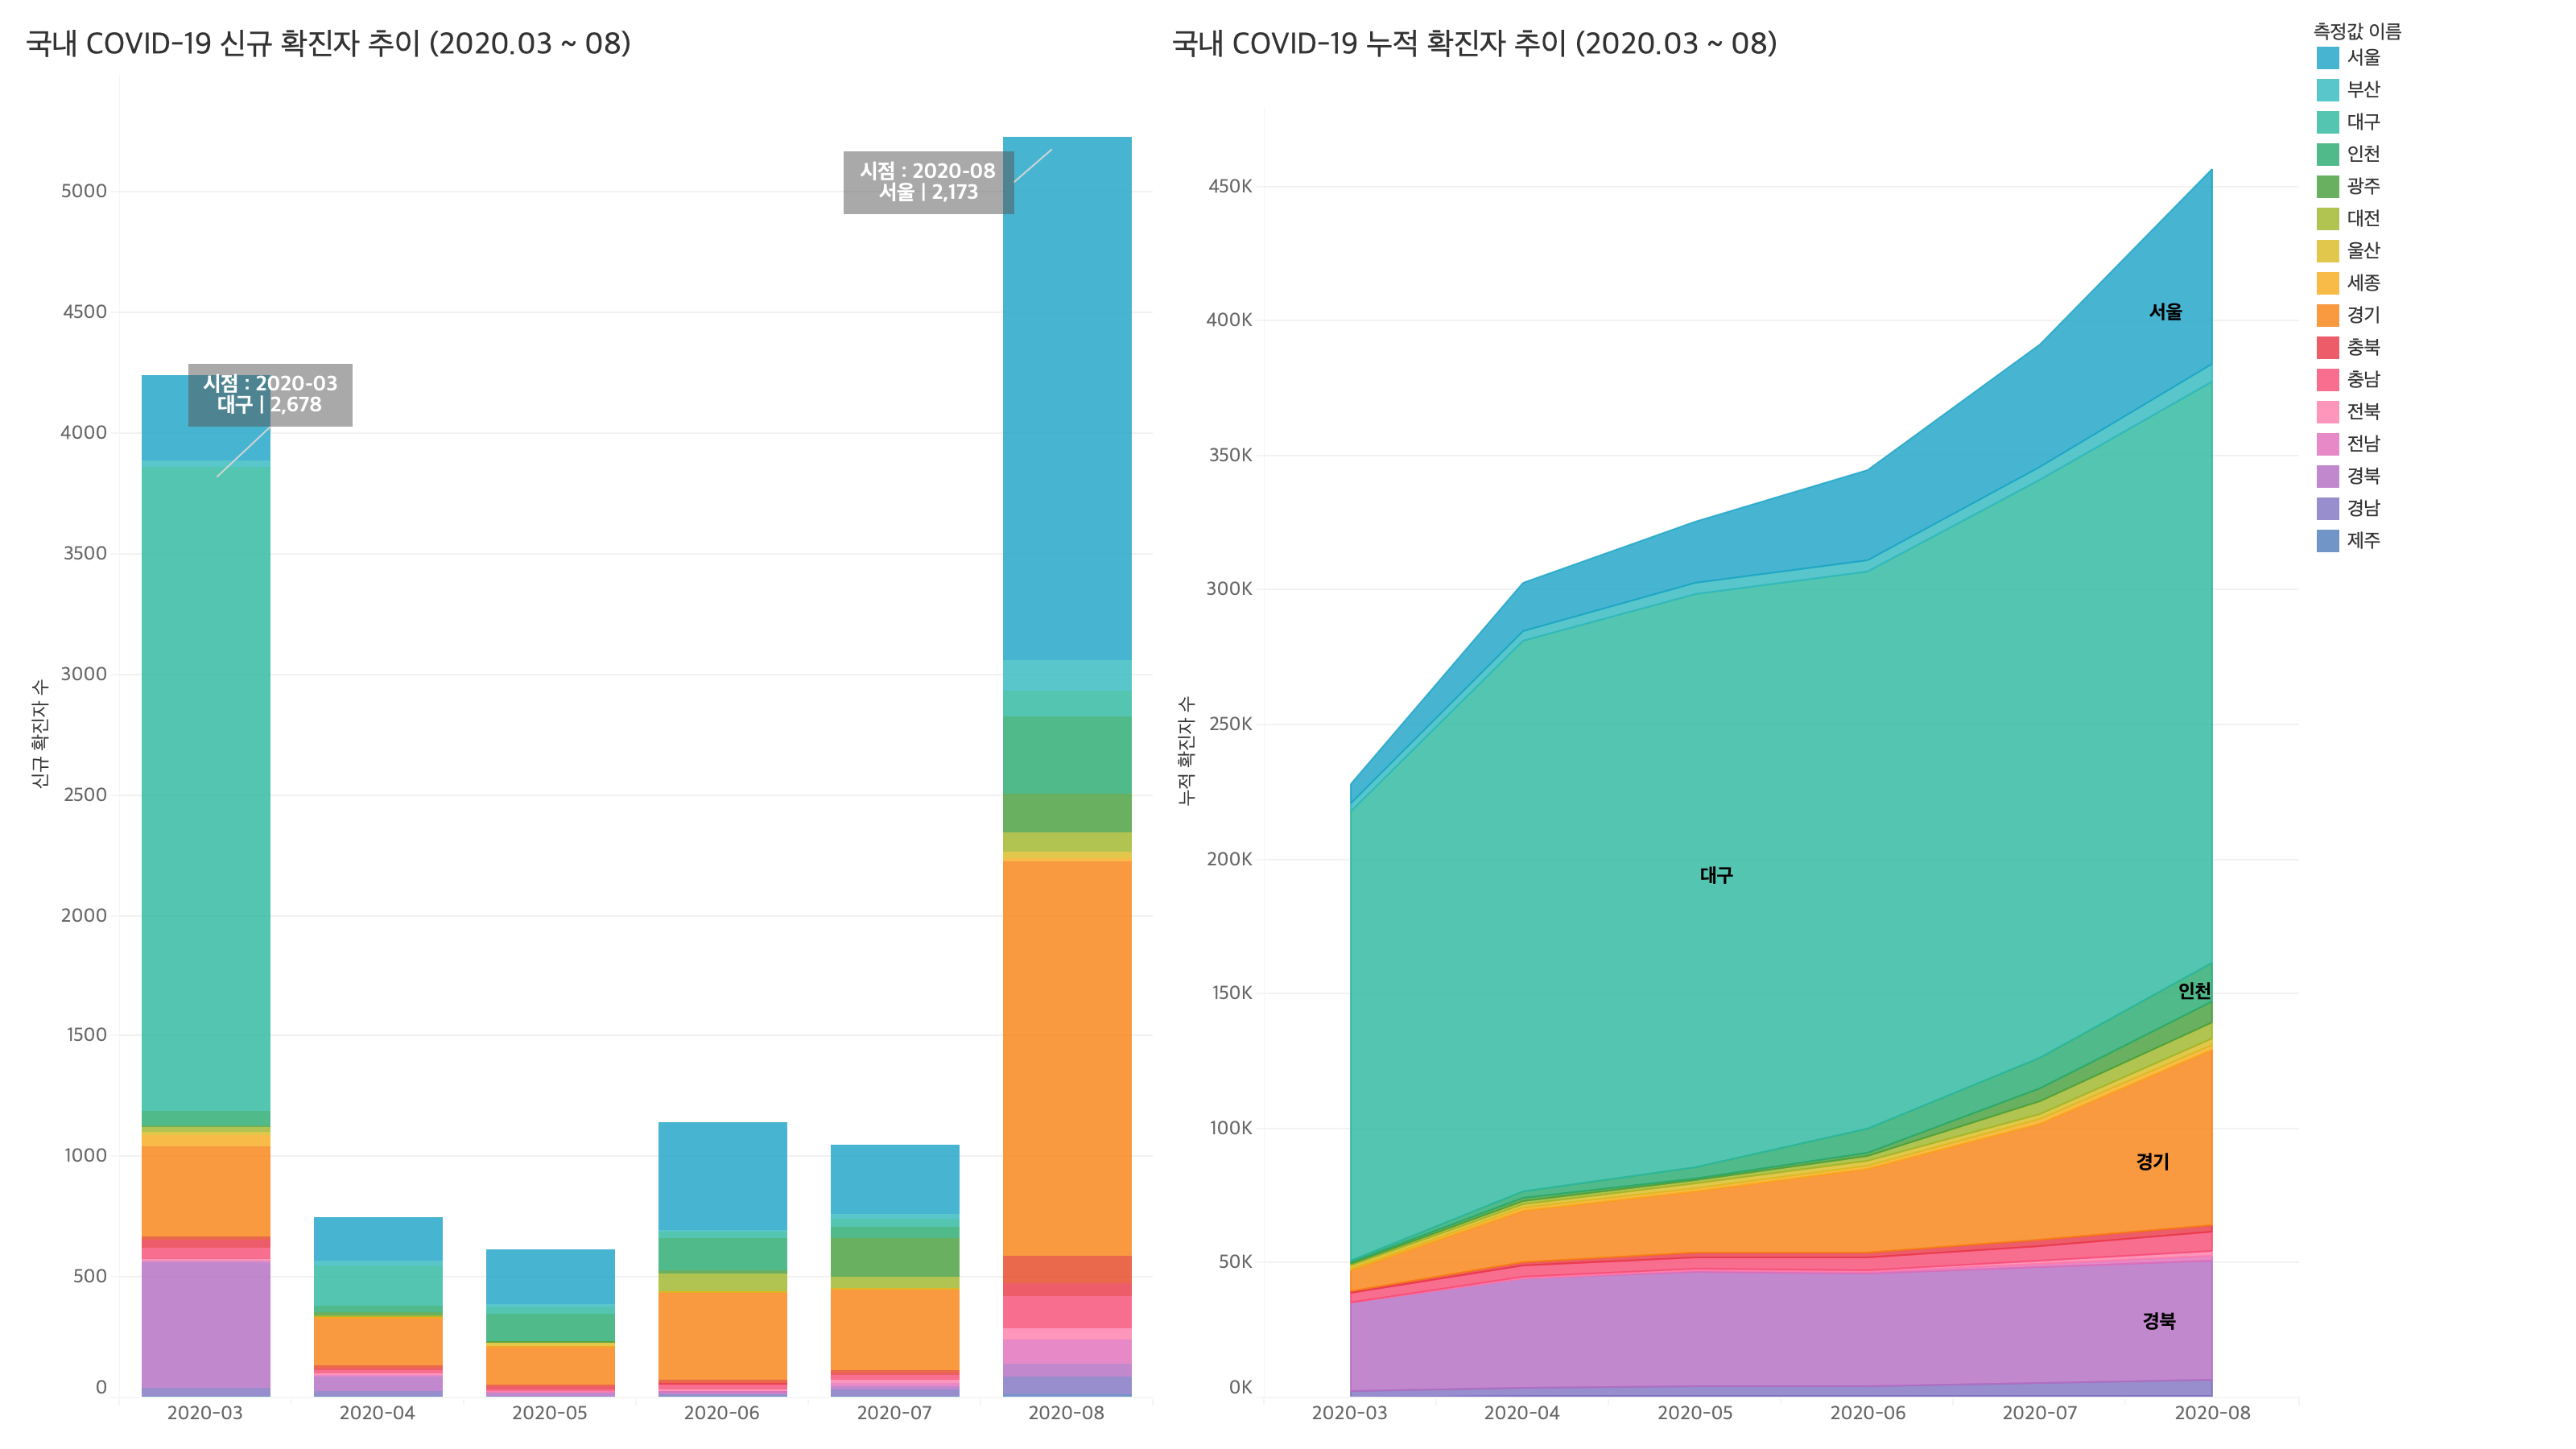

The dashboard page shown, as its layout file describes it:
{"tool":"tableau","page":{"name":"covid","canvas":[1600,900],"ordinal":0},"visuals":[{"type":"worksheet","box":[0,0,1600,900]},{"type":"worksheet","param":"horz","box":[8,8,1584,884]},{"type":"worksheet","box":[8,8,1424,884]},{"type":"worksheet","title":"covid신규","mark":"Bar","box":[8,8,712,884]},{"type":"worksheet","title":"covid누적","mark":"Area","box":[720,8,712,884]},{"type":"worksheet","param":"vert","box":[1432,8,160,884]},{"type":"worksheet","title":"covid누적","mark":"Area","param":"[federated.0ef098814n7bxw12qywmp0sd1su6].[:Measure Names]","box":[1432,8,160,342]}]}

Visuals, with their boxes in screenshot pixels (x1, y1, x2, y2), scaled from the page's 1600x900 canvas onto the 2576x1449 screenshot:
worksheet: bbox(0, 0, 2575, 1448)
worksheet: bbox(13, 13, 2563, 1436)
worksheet: bbox(13, 13, 2306, 1436)
"covid신규" worksheet (Bar marks): bbox(13, 13, 1159, 1436)
"covid누적" worksheet (Area marks): bbox(1159, 13, 2306, 1436)
worksheet: bbox(2306, 13, 2563, 1436)
"covid누적" worksheet (Area marks): bbox(2306, 13, 2563, 563)
